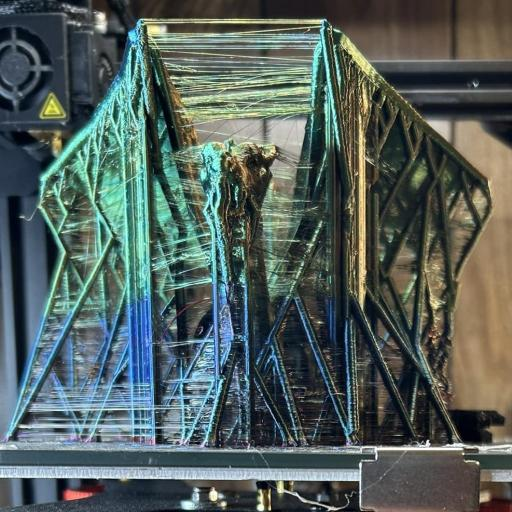stringing: (142, 20, 329, 120), (260, 172, 322, 260), (30, 377, 146, 417), (141, 238, 221, 284)
